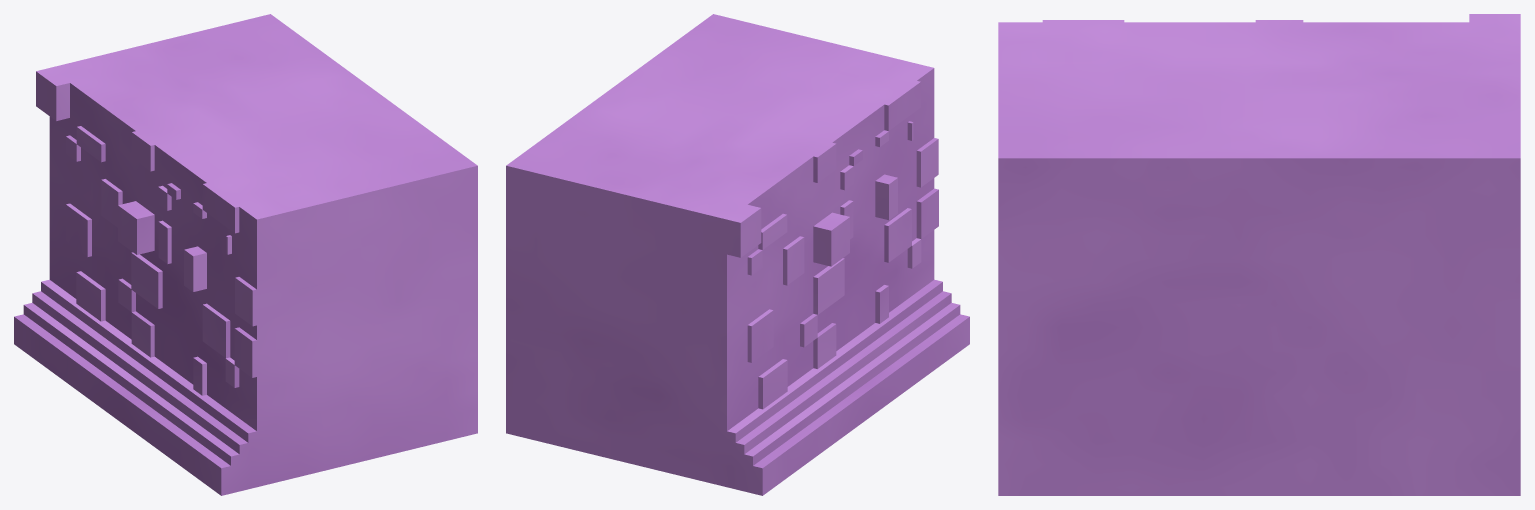
The model's file is building2.gltf.
The picture shows the model from 3 angles, left to right: view 1: azimuth 30°, elevation 25°; view 2: azimuth 150°, elevation 25°; view 3: azimuth 270°, elevation 25°; orthographic projection. The views are drawn at different scales.
Parts seen in each view (by area): view 1: たてもの２; view 2: たてもの２; view 3: たてもの２.
Part boxes in pixels (x1,y1,x2,y2): たてもの２: (14,14,477,495); たてもの２: (506,14,969,495); たてもの２: (998,14,1520,495).
Size of the model in its own units: 19.41 by 19.36 by 27.16.
Materials: 1 (1 with a texture image).
